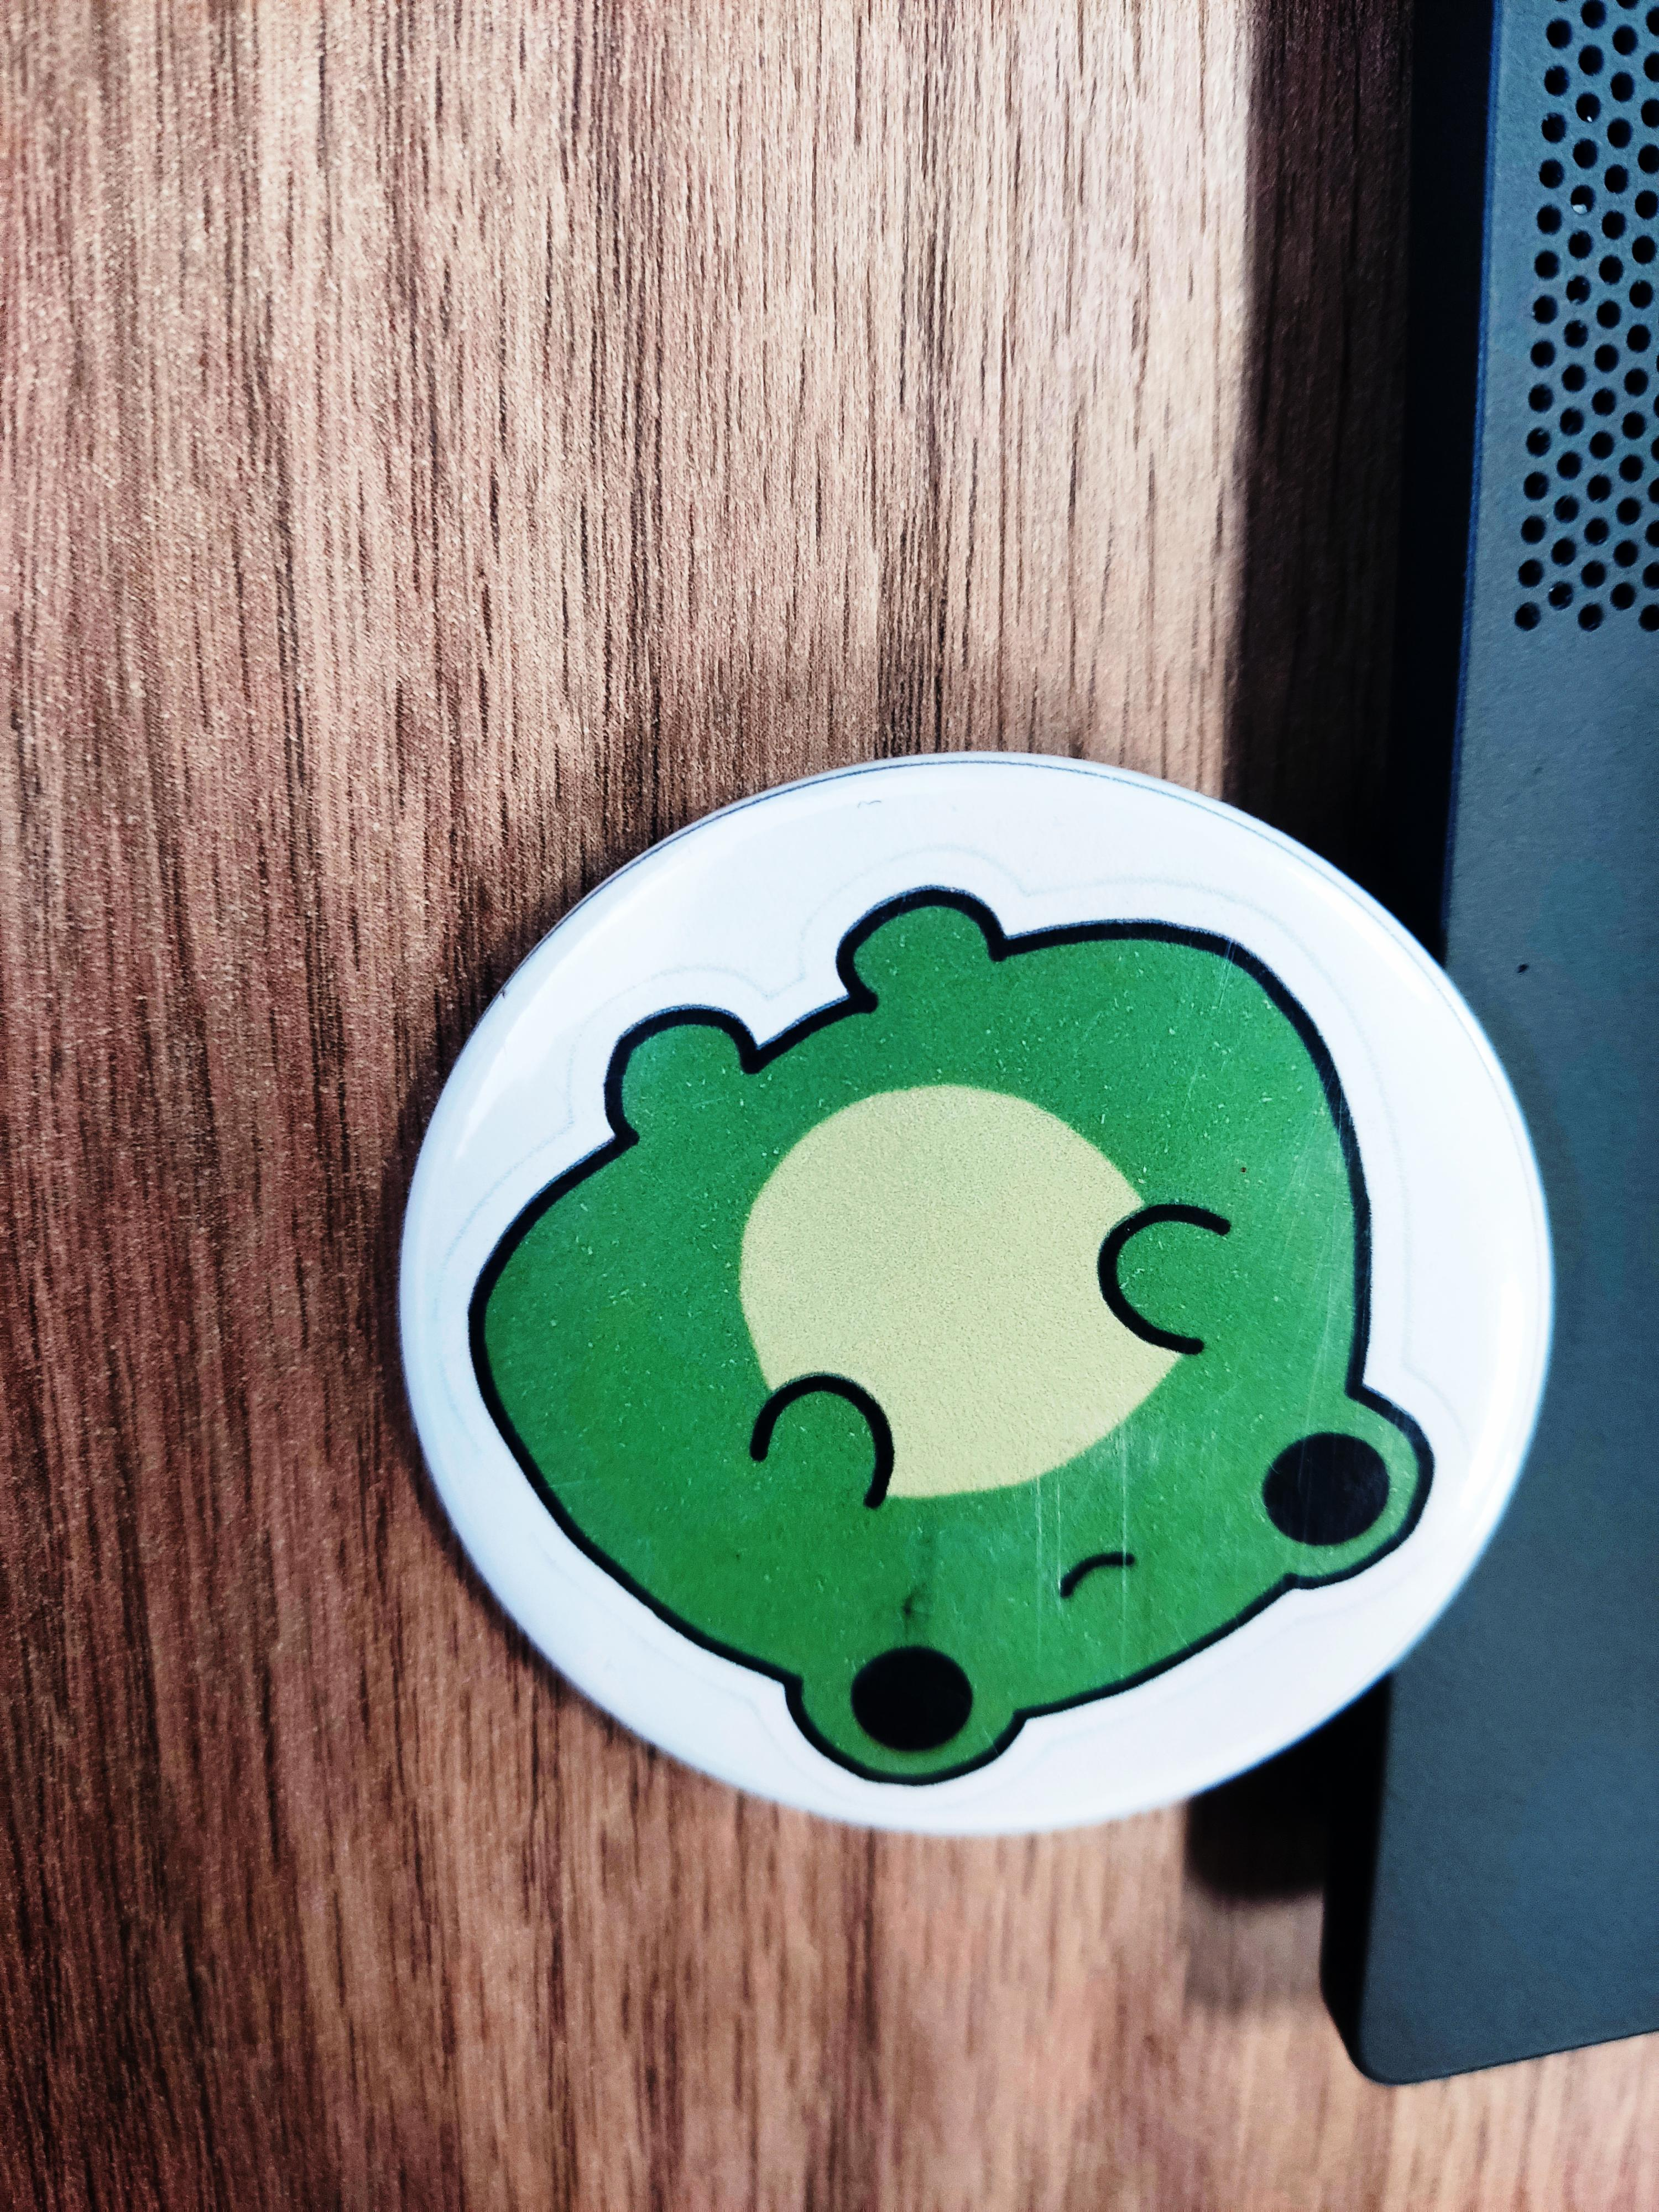pin: (387, 704, 1577, 1820)
